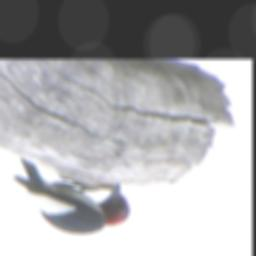Woodpecker: (8, 155, 135, 237)
